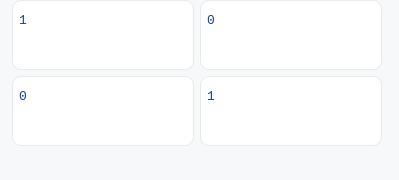
MatrixEntryEditor (S28 PART 41/71) › rejects unsafe entries without crashing
The width and height of the screenshot is (399, 180).
Replace the text in the field named "Row 1 column 1" with "sin(factorial(a))": (103, 21) [19,5,187,37]
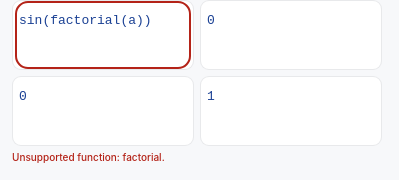
Check: the message "Unsupported function: factorial." is shown, box [12,151,165,163]
